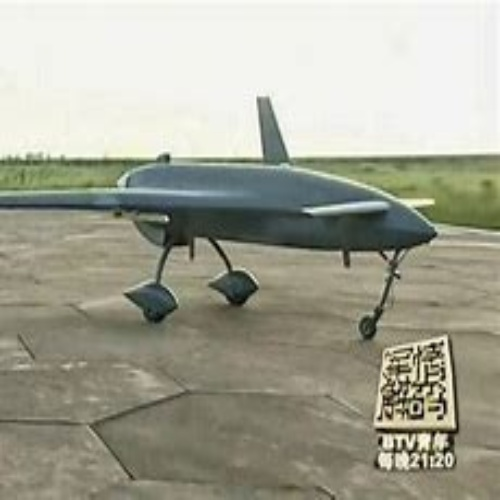uav329: (2, 96, 441, 332)
